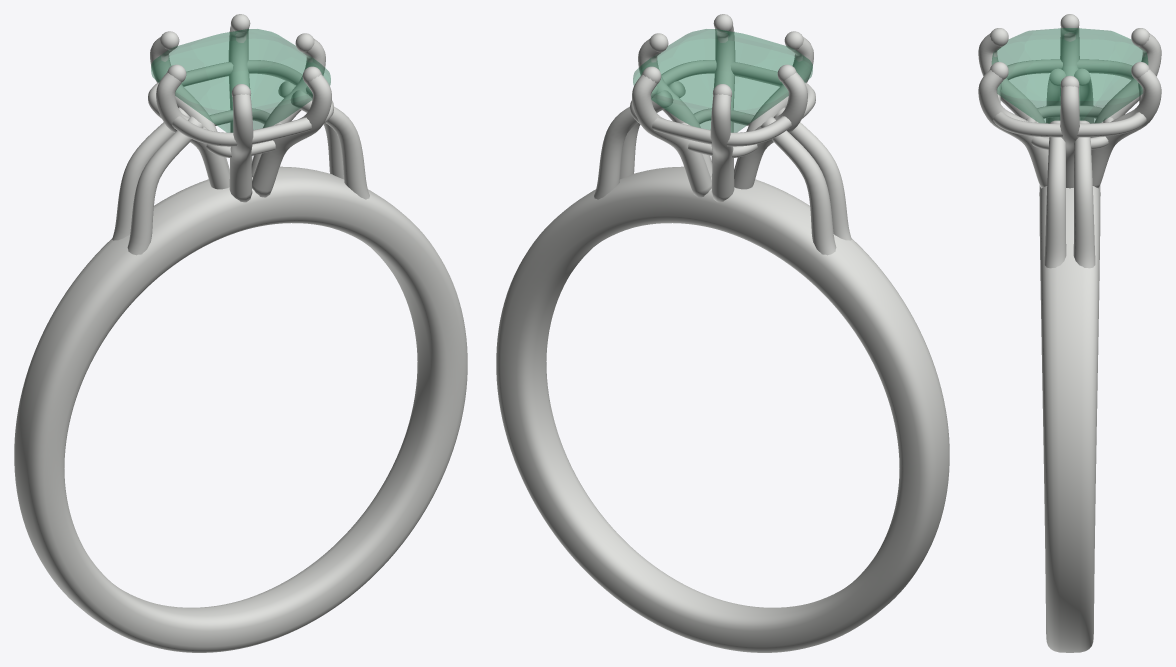
File: Ring_Prong_Preview.glb
3 views of the same model, side by side, from view 1: azimuth 30°, elevation 25°; view 2: azimuth 150°, elevation 25°; view 3: azimuth 270°, elevation 25° (orthographic).
Parts seen in each view (by area): view 1: Band, Head_Center, PreviewGem_Center, Cathedral; view 2: Band, Head_Center, PreviewGem_Center, Cathedral; view 3: Band, Head_Center, PreviewGem_Center, Cathedral.
Part boxes in pixels (<box>): Band: <box>14,166,467,652</box>; Head_Center: <box>148,14,333,202</box>; PreviewGem_Center: <box>151,29,330,132</box>; Cathedral: <box>112,81,369,255</box>; Band: <box>496,166,949,652</box>; Head_Center: <box>630,14,815,202</box>; PreviewGem_Center: <box>633,29,812,132</box>; Cathedral: <box>594,81,851,255</box>; Band: <box>1039,185,1100,652</box>; Head_Center: <box>978,14,1161,188</box>; PreviewGem_Center: <box>992,28,1147,123</box>; Cathedral: <box>1044,68,1095,268</box>.
Bounding box in the file's own units: 0.0207 × 0.0267 × 0.0076.
